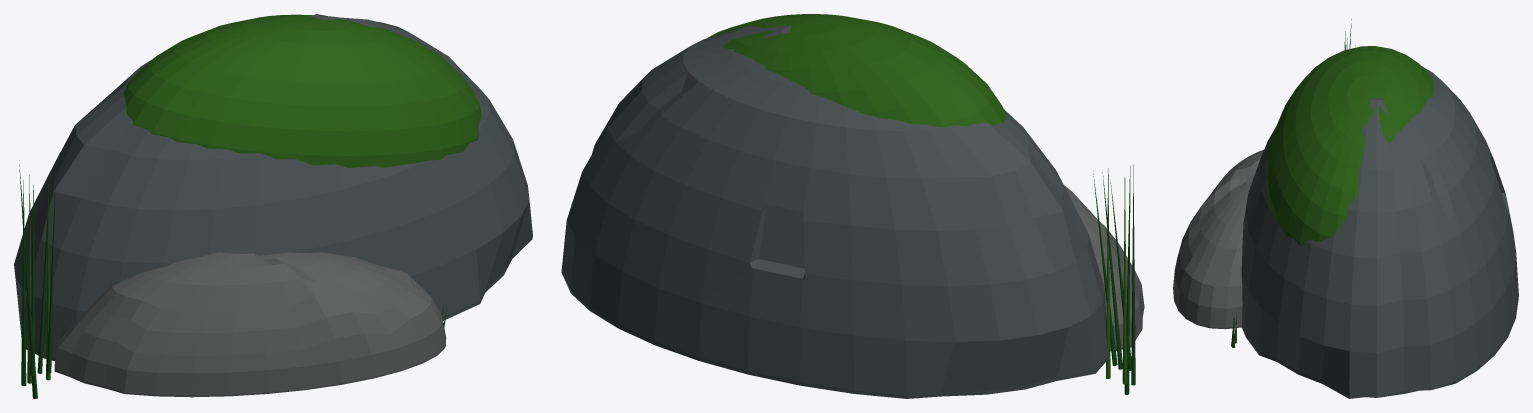
The model's file is stone.glb.
3 renders of one model, left to right at view 1: azimuth 30°, elevation 25°; view 2: azimuth 150°, elevation 25°; view 3: azimuth 270°, elevation 25°, orthographic. The views are drawn at different scales.
Parts seen in each view (by area): view 1: Sphere.007, Sphere.006, Sphere.005, Cone.020, Cone.021, Cone.025, Cone.022, Cone.018, Cone.024, Cone.019; view 2: Sphere.007, Sphere.005, Sphere.006, Cone.020, Cone.019, Cone.022, Cone.021, Cone.024, Cone.025; view 3: Sphere.007, Sphere.005, Sphere.006.
Part boxes in pixels (left/top/right/bottom): Sphere.007: left=14, top=14, right=532, bottom=361; Sphere.006: left=54, top=252, right=446, bottom=397; Sphere.005: left=123, top=14, right=481, bottom=167; Cone.020: left=21, top=180, right=26, bottom=386; Cone.021: left=19, top=160, right=37, bottom=398; Cone.025: left=46, top=179, right=55, bottom=372; Cone.022: left=37, top=177, right=50, bottom=373; Cone.018: left=30, top=185, right=34, bottom=375; Cone.024: left=46, top=180, right=50, bottom=380; Cone.019: left=27, top=175, right=31, bottom=383; Sphere.007: left=561, top=25, right=1107, bottom=398; Sphere.005: left=707, top=14, right=1007, bottom=127; Sphere.006: left=1064, top=185, right=1144, bottom=351; Cone.020: left=1131, top=165, right=1135, bottom=385; Cone.019: left=1122, top=177, right=1127, bottom=384; Cone.022: left=1102, top=172, right=1122, bottom=369; Cone.021: left=1124, top=165, right=1130, bottom=394; Cone.024: left=1106, top=168, right=1110, bottom=378; Cone.025: left=1093, top=173, right=1117, bottom=366; Sphere.007: left=1241, top=66, right=1518, bottom=398; Sphere.005: left=1266, top=46, right=1434, bottom=245; Sphere.006: left=1173, top=149, right=1263, bottom=329.
Bounding box in the file's own units: 0.5641 × 0.3115 × 0.3866.
